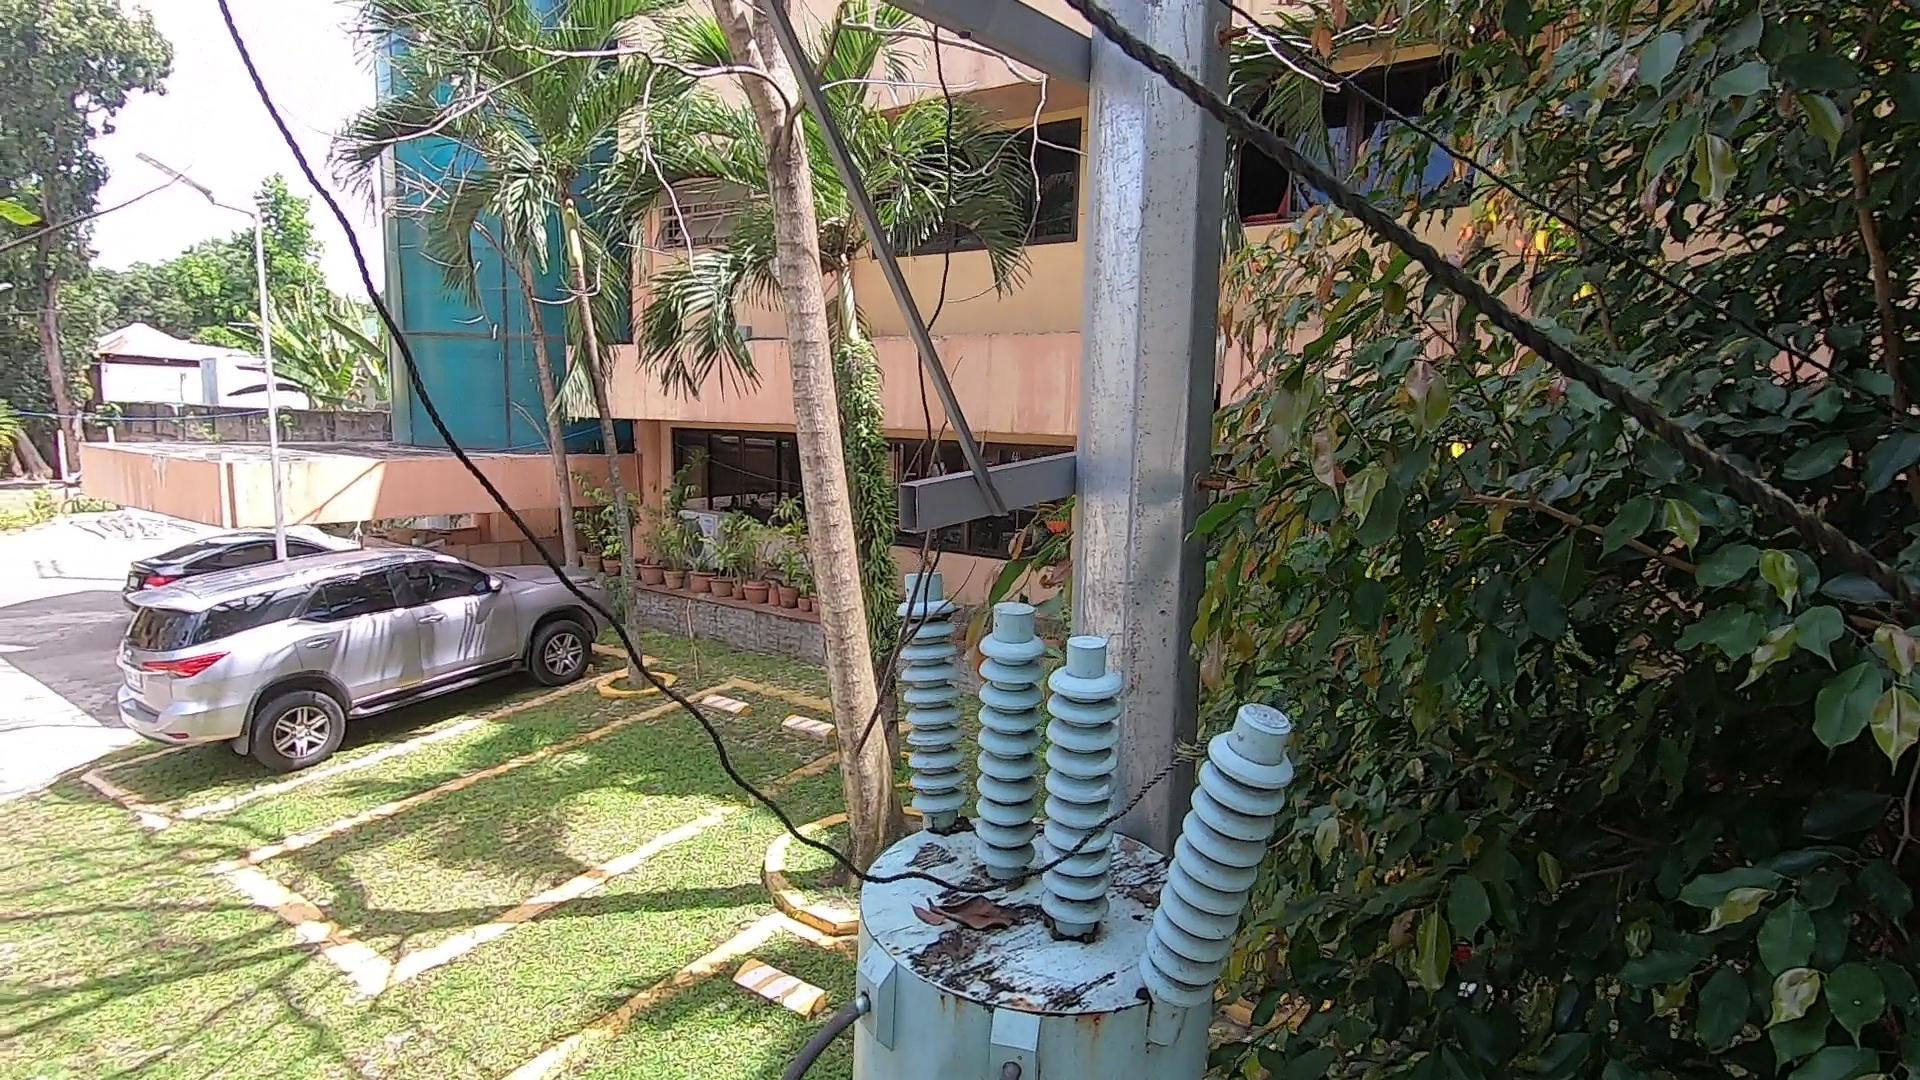leaf: (901, 873, 1044, 939), (1126, 873, 1174, 914), (922, 808, 975, 843)
tree branch: (818, 400, 986, 775)
